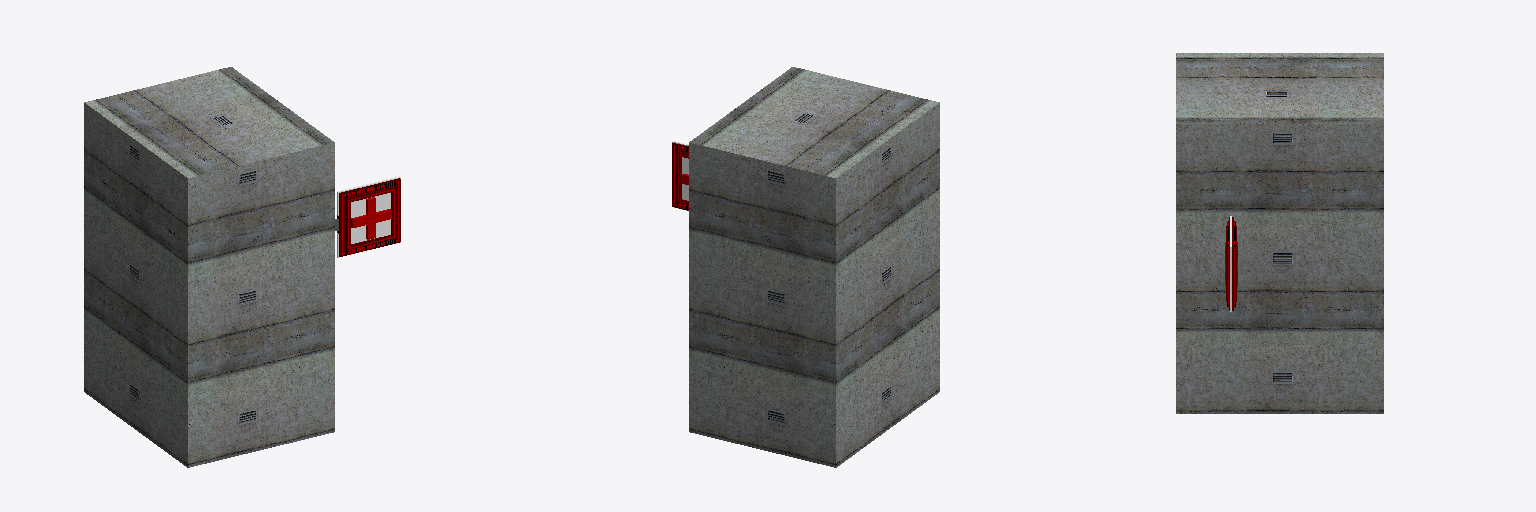
3 renders of one model, left to right at view 1: azimuth 30°, elevation 25°; view 2: azimuth 150°, elevation 25°; view 3: azimuth 270°, elevation 25°, orthographic.
Visible parts, largest first — view 1: wall, sign; view 2: wall, sign; view 3: wall, sign.
Part boxes in pixels (x1,y1,x2,y2): wall: (84,67,334,467); sign: (335,176,400,257); wall: (689,67,939,467); sign: (672,141,688,210); wall: (1176,53,1383,413); sign: (1225,216,1237,311).
Size of the model in its own units: 20.98 by 24.21 by 15.71.
Materials: 6 (1 with a texture image).